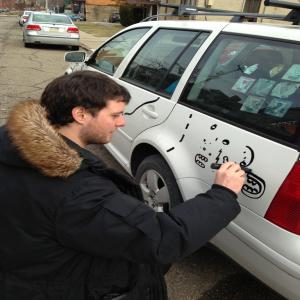Vehicle-registration-plate: (49, 28, 60, 33)
